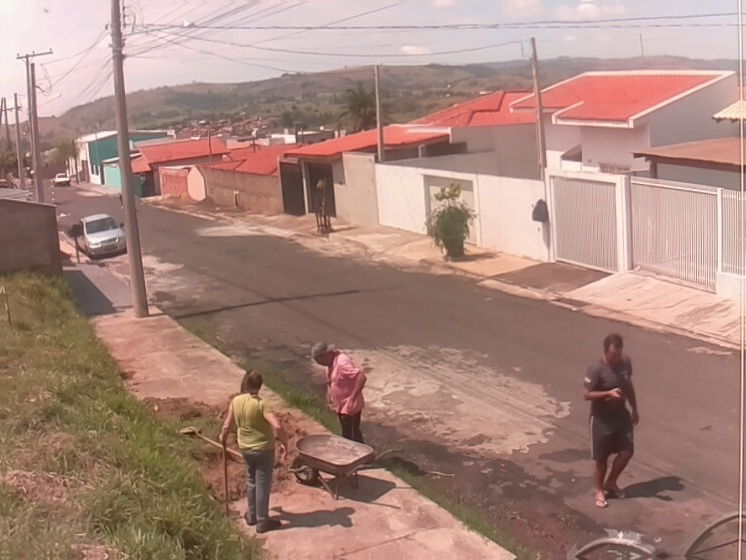person: (218, 368, 285, 532), (581, 332, 641, 509), (311, 339, 368, 451)
